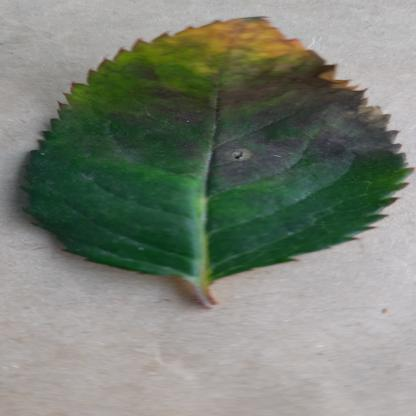powdery-mildew: (13, 14, 415, 282)
